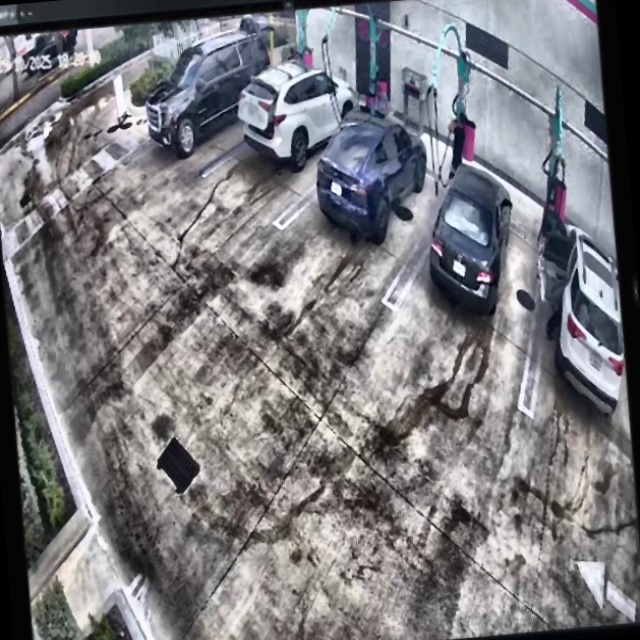Car: (312, 96, 433, 245), (423, 160, 521, 318), (235, 51, 361, 169)
